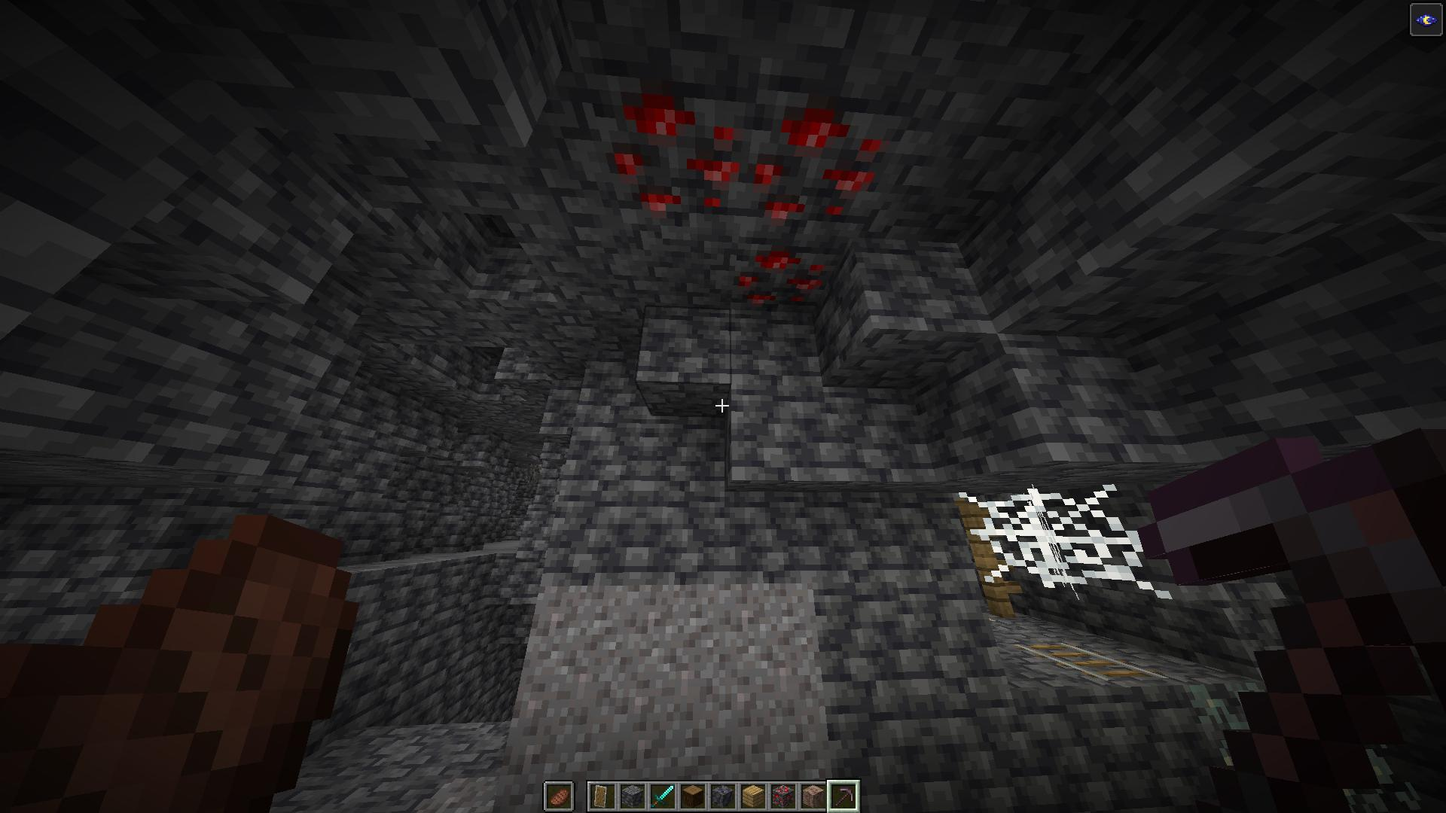redstone ore: (607, 90, 743, 225), (752, 108, 889, 232), (734, 244, 837, 318)
